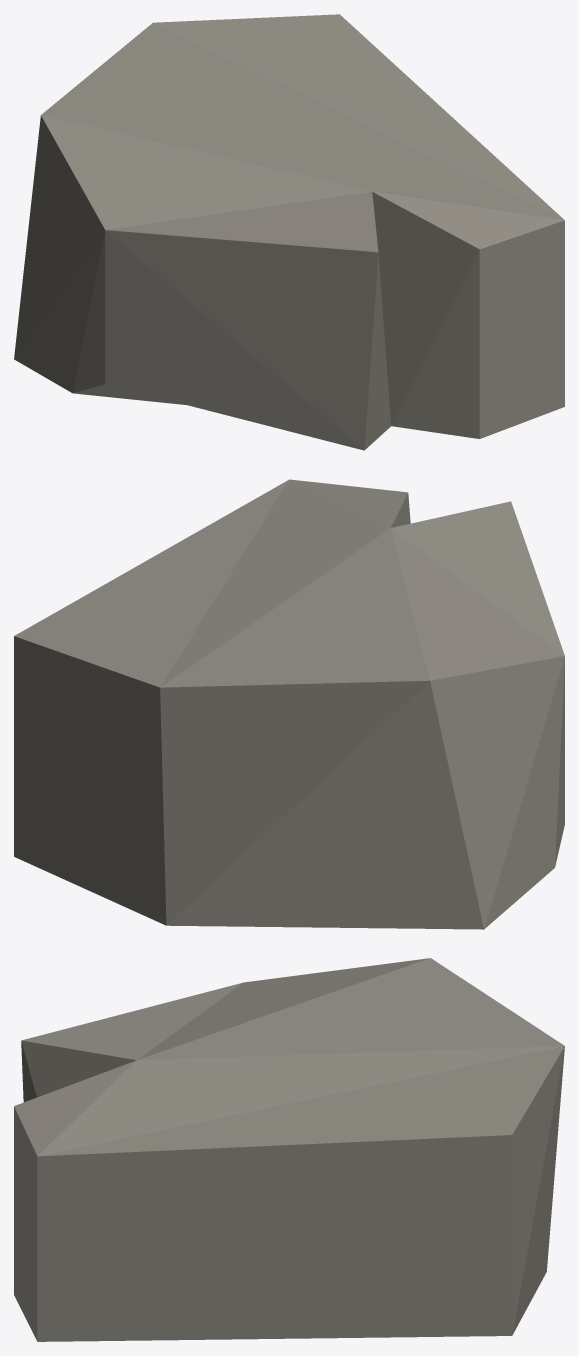
Rendered from Rock_4.glb.
The picture shows the model from 3 angles, top to bottom: view 1: azimuth 30°, elevation 25°; view 2: azimuth 150°, elevation 25°; view 3: azimuth 270°, elevation 25°; orthographic projection. The views are drawn at different scales.
Parts seen in each view (by area): view 1: Rock_14_LOD0; view 2: Rock_14_LOD0; view 3: Rock_14_LOD0.
Part boxes in pixels (x1=…): Rock_14_LOD0: x1=14, y1=14, x2=564, y2=450; Rock_14_LOD0: x1=14, y1=479, x2=564, y2=929; Rock_14_LOD0: x1=14, y1=958, x2=564, y2=1341.
Size of what is drawn, in the model's own units: 0.3823 by 0.2172 by 0.4811.
Materials: 1 (1 with a texture image).
